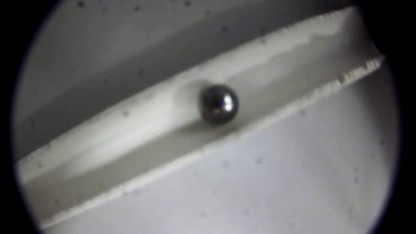gangzhu: (196, 83, 241, 126)
